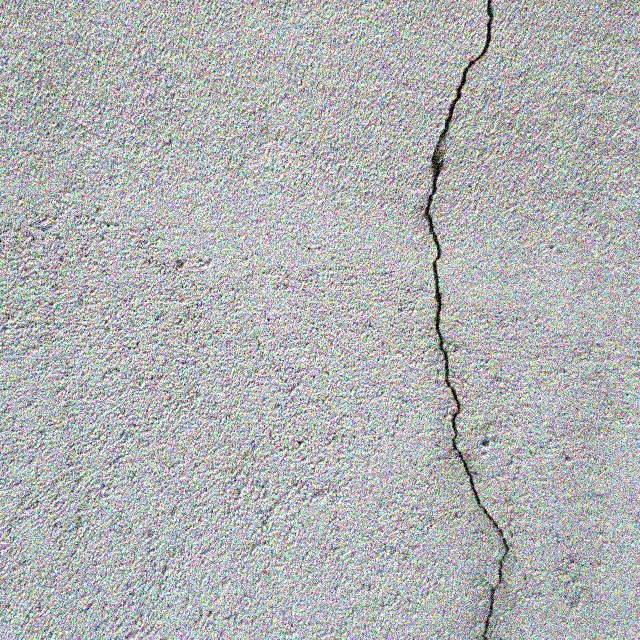SurfaceCrack: (386, 2, 540, 640)
